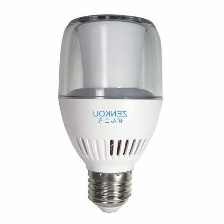light_bulb: (55, 10, 167, 215)
